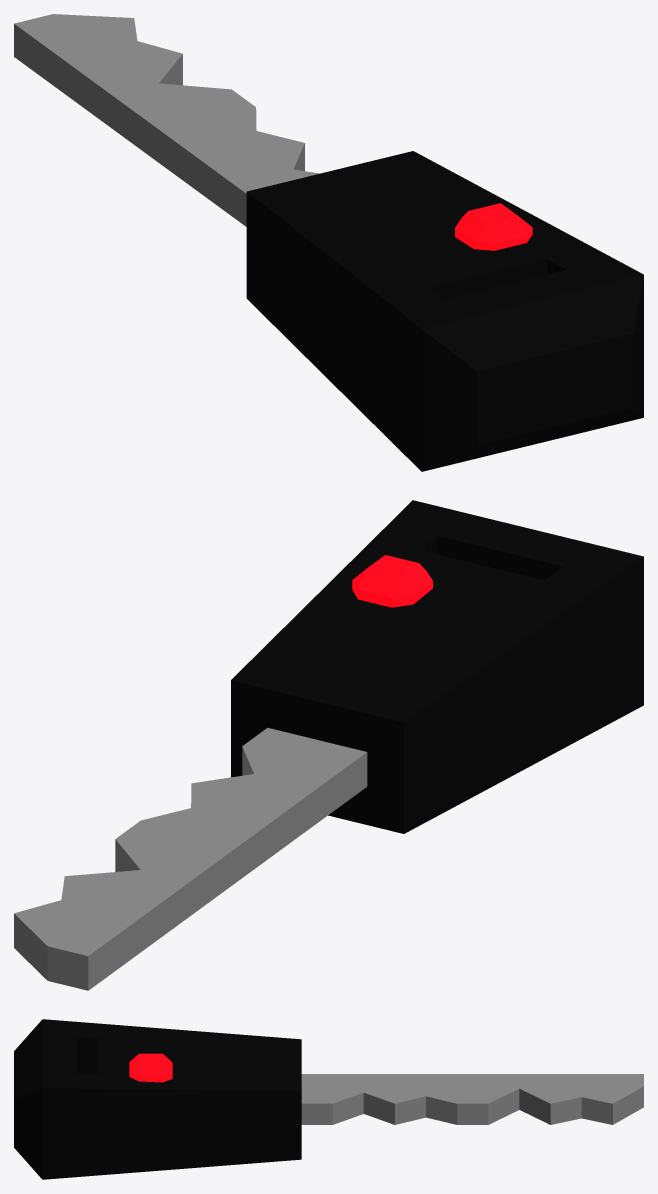
The model's file is key.glb.
3 views of the same model, one above another, from view 1: azimuth 30°, elevation 25°; view 2: azimuth 150°, elevation 25°; view 3: azimuth 270°, elevation 25° (orthographic). The views are drawn at different scales.
Parts seen in each view (by area): view 1: key; view 2: key; view 3: key.
Boxes of the visible parts, x1,y1,x2,y2 form: key: [14, 14, 643, 471]; key: [14, 500, 643, 990]; key: [14, 1019, 643, 1179].
Size of the model in its own units: 0.1228 by 0.0832 by 0.472.
